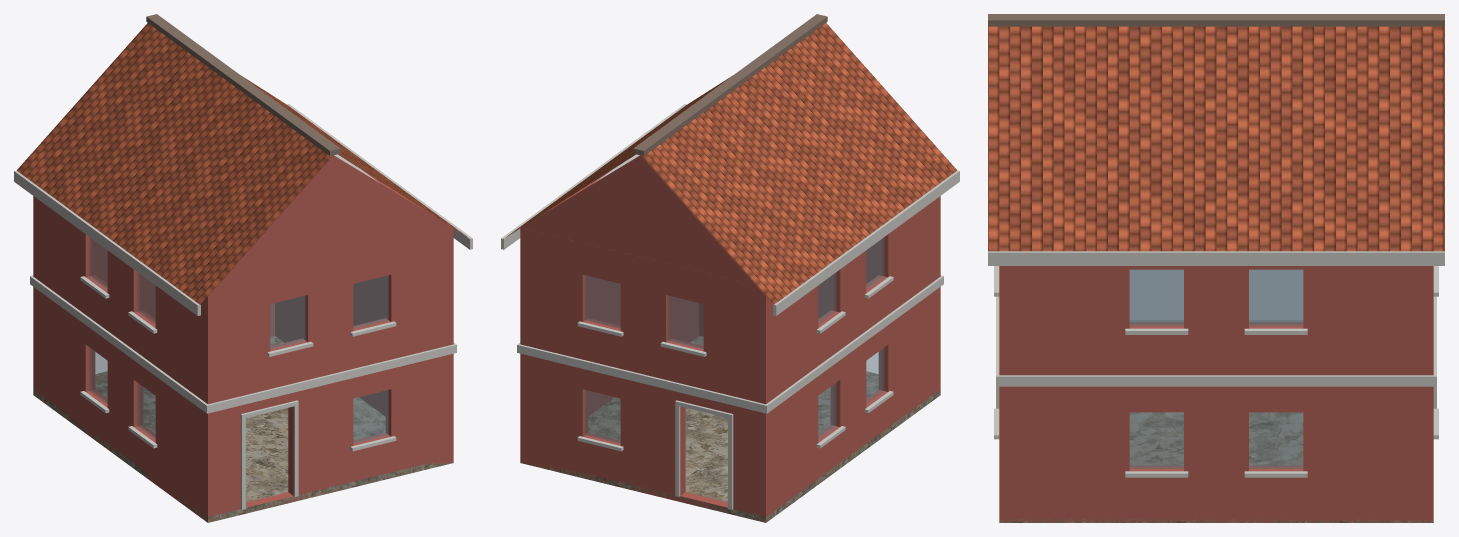
The model's file is cove-house-red.coast-v1.lod1.glb.
3 views of the same model, side by side, from view 1: azimuth 30°, elevation 25°; view 2: azimuth 150°, elevation 25°; view 3: azimuth 270°, elevation 25° (orthographic). The views are drawn at different scales.
Parts seen in each view (by area): view 1: cove-house-red; view 2: cove-house-red; view 3: cove-house-red.
Boxes of the visible parts, box(x1,y1,x2,y2) form: cove-house-red: box(14, 14, 472, 522); cove-house-red: box(501, 14, 959, 522); cove-house-red: box(988, 14, 1444, 522).
Size of the model in its own units: 7.28 by 8.77 by 8.42.
4 materials, 2 textured.
